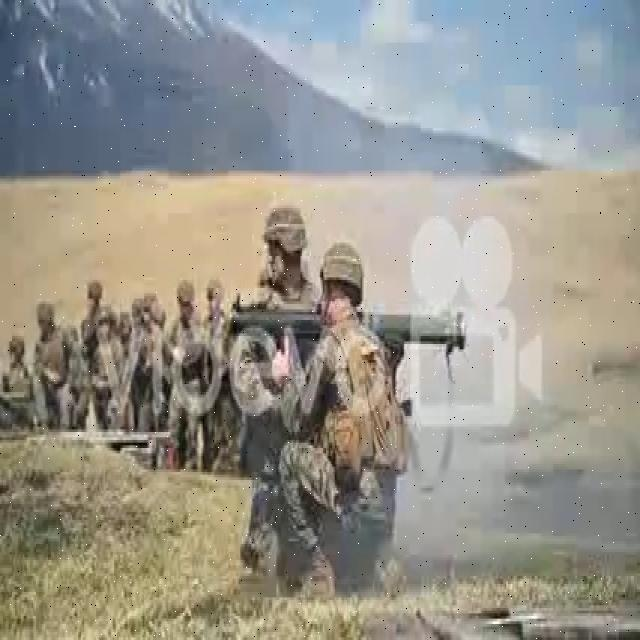bazooka: (225, 299, 479, 356)
